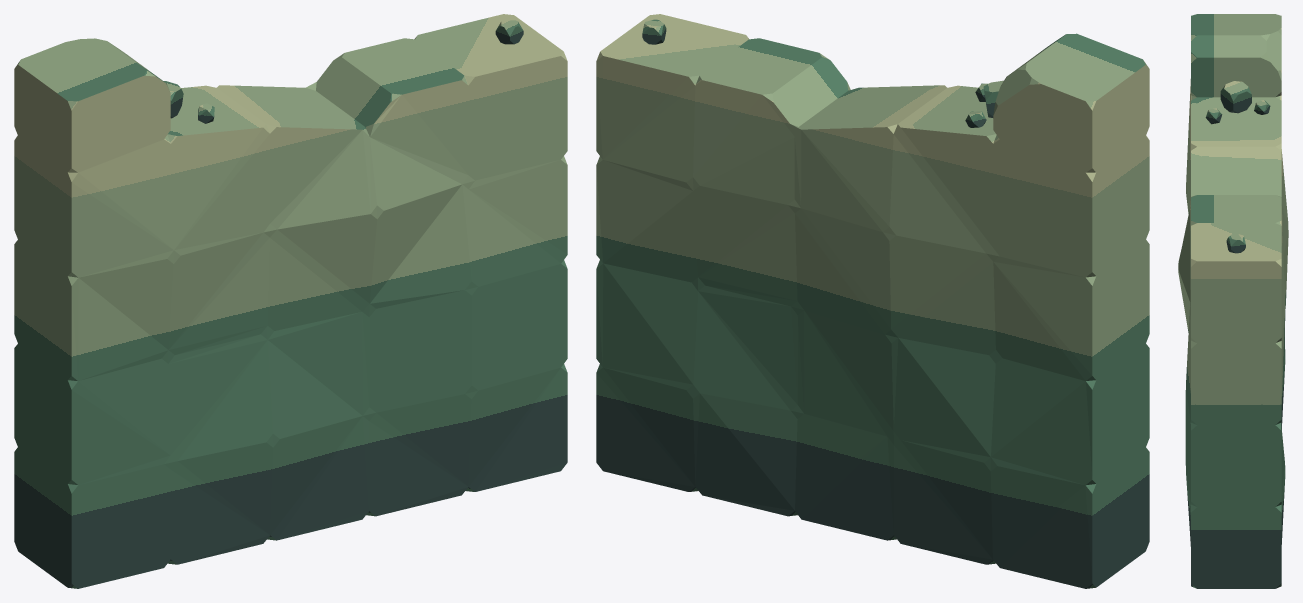
The model's file is Wall 3.003.fbx.
3 renders of one model, left to right at view 1: azimuth 30°, elevation 25°; view 2: azimuth 150°, elevation 25°; view 3: azimuth 270°, elevation 25°, orthographic. The views are drawn at different scales.
Parts seen in each view (by area): view 1: Wall 3.003; view 2: Wall 3.003; view 3: Wall 3.003.
Boxes of the visible parts, bbox=[...] form: Wall 3.003: bbox=[14, 14, 567, 588]; Wall 3.003: bbox=[596, 14, 1149, 588]; Wall 3.003: bbox=[1178, 14, 1288, 588].
Size of the model in its own units: 500 by 480 by 122.
